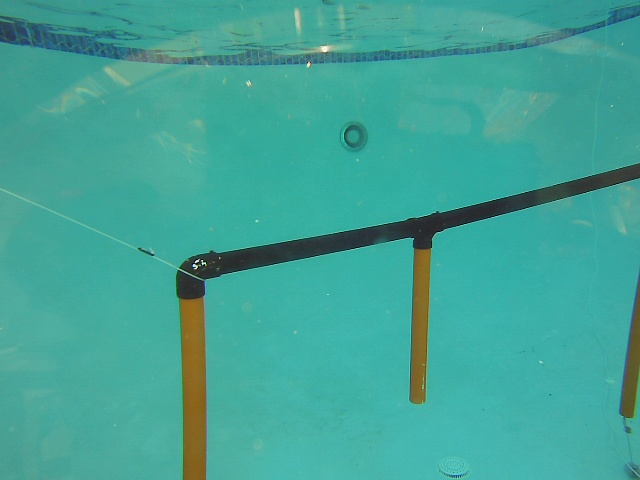Gate: (173, 288, 210, 480), (405, 243, 429, 407), (615, 266, 640, 421)
